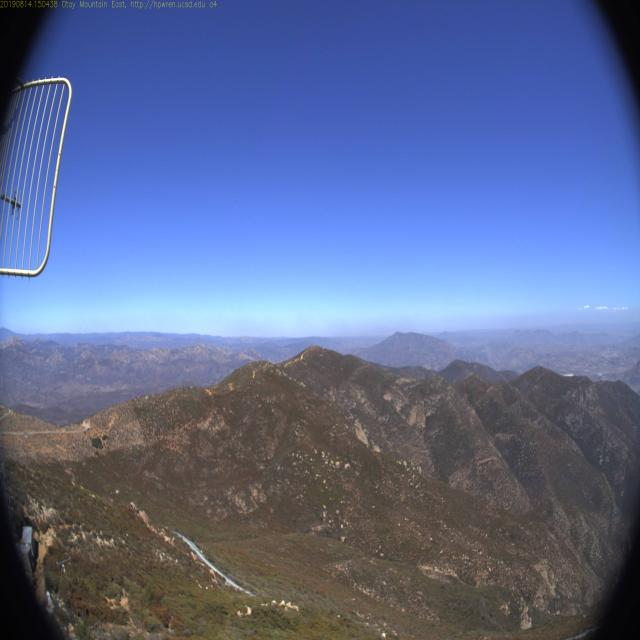smoke: (481, 339, 499, 371)
